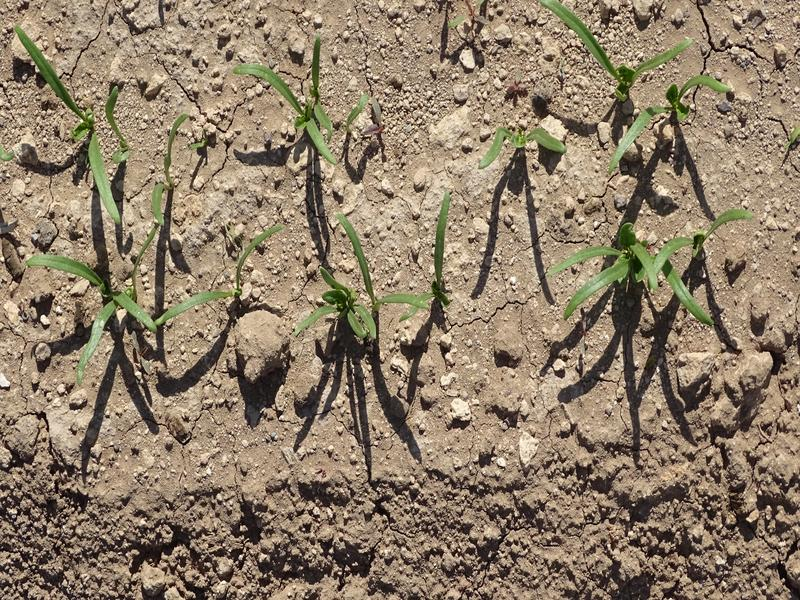Espinaca: (483, 6, 732, 189), (302, 193, 457, 349), (547, 211, 756, 325), (20, 244, 232, 355), (14, 25, 131, 224), (233, 39, 369, 154), (150, 109, 188, 222), (238, 223, 283, 270)
